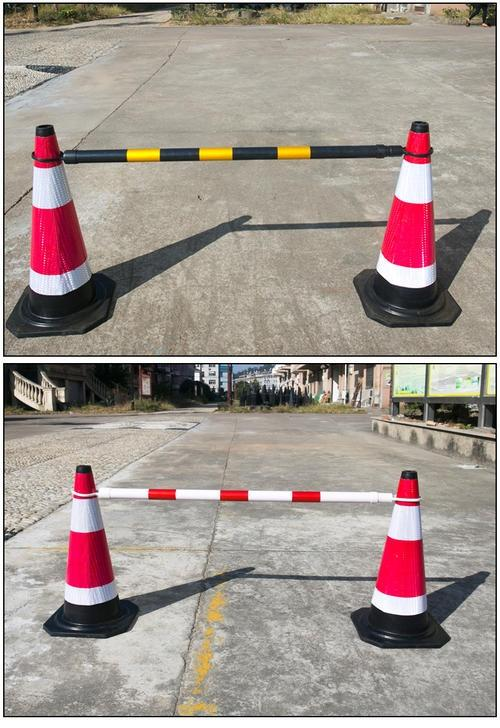cone_barrel: (12, 126, 104, 325), (361, 120, 448, 321), (45, 460, 130, 637), (357, 466, 440, 647)
